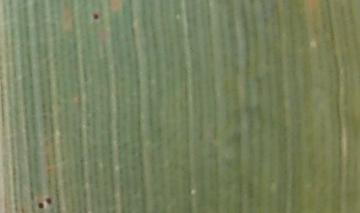tarspot: (91, 11, 100, 23), (44, 196, 53, 205), (37, 201, 44, 210)
